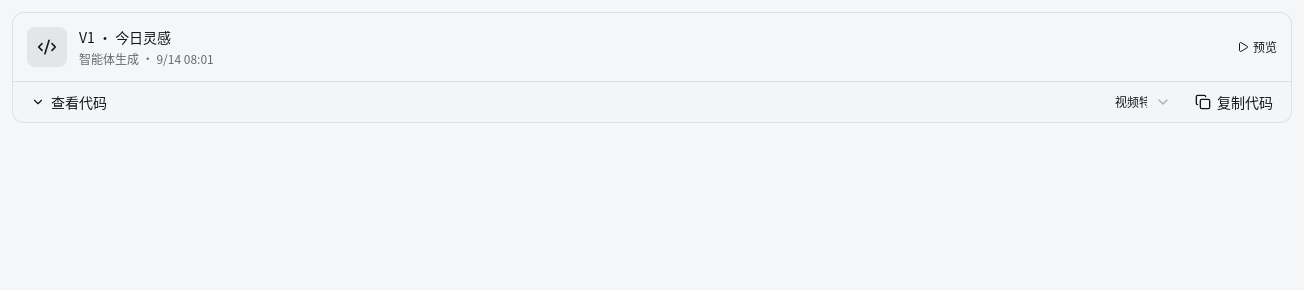
Test: 诊断失败保留代码显示并允许重试
The image size is (1304, 290).
Click the button with aria-label "展开 V1 代码".
click(69, 102)  # box [21,86,117,118]
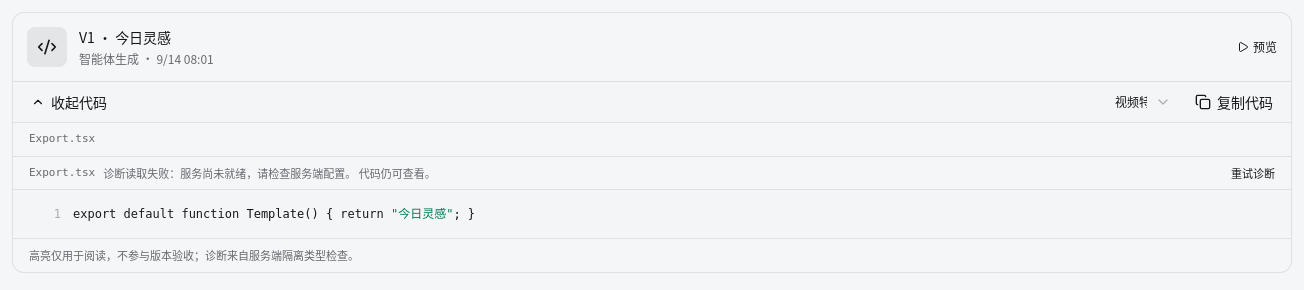
Expected: the text "诊断读取失败：服务尚未就绪，请检查服务端配置。 代码仍可查看。" is shown, [103,164,436,181]
Expected: the element named "模板 TSX 代码" shows "今日灵感", [391,207,454,221]
Click the button "重试诊断".
click(1253, 173)  # box [1231,164,1275,181]
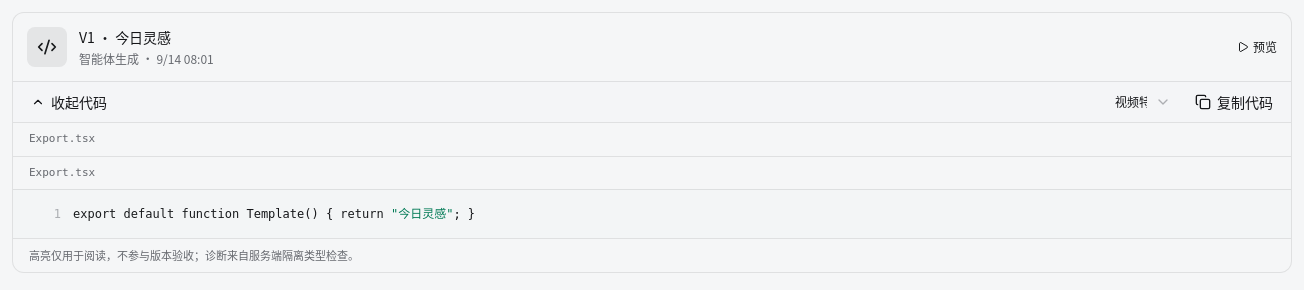
Expected: the text "诊断读取失败" is gone
Expected: the button "重试诊断" is gone
